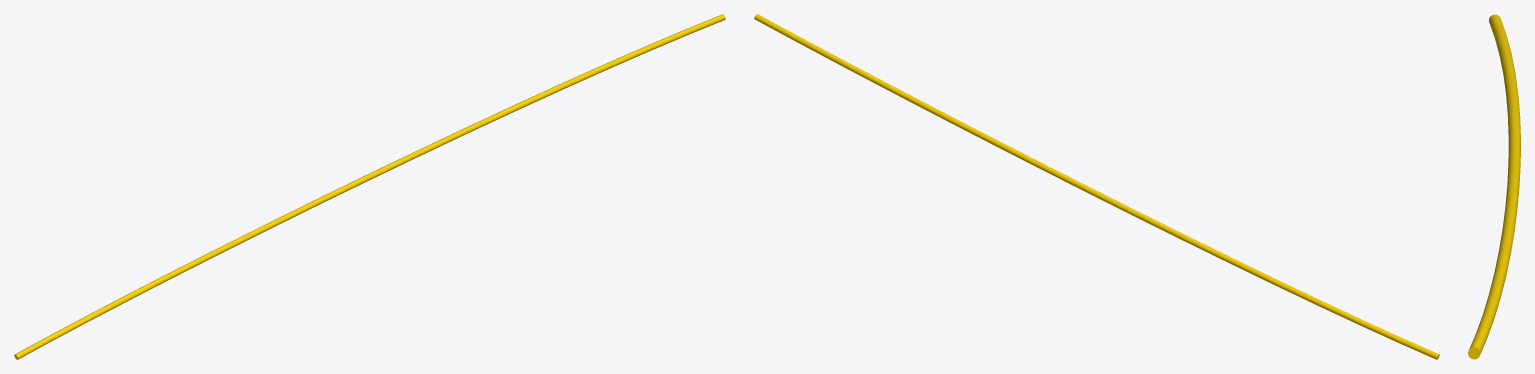
Rendered from Event_421115418_track_59.fbx.
3 renders of one model, left to right at view 1: azimuth 30°, elevation 25°; view 2: azimuth 150°, elevation 25°; view 3: azimuth 270°, elevation 25°, orthographic. The views are drawn at different scales.
Visible parts, largest first — view 1: Model; view 2: Model; view 3: Model.
Part boxes in pixels (left/top/right/bottom): Model: left=14, top=14, right=725, bottom=359; Model: left=754, top=14, right=1439, bottom=359; Model: left=1468, top=14, right=1520, bottom=359.
Bounding box in the file's own units: 5.16 × 1.25 × 0.1717.
